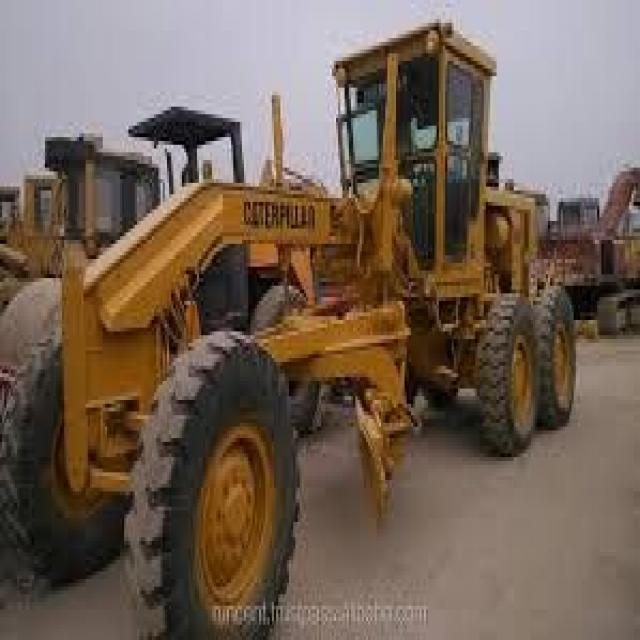Grader: (22, 38, 614, 636)
